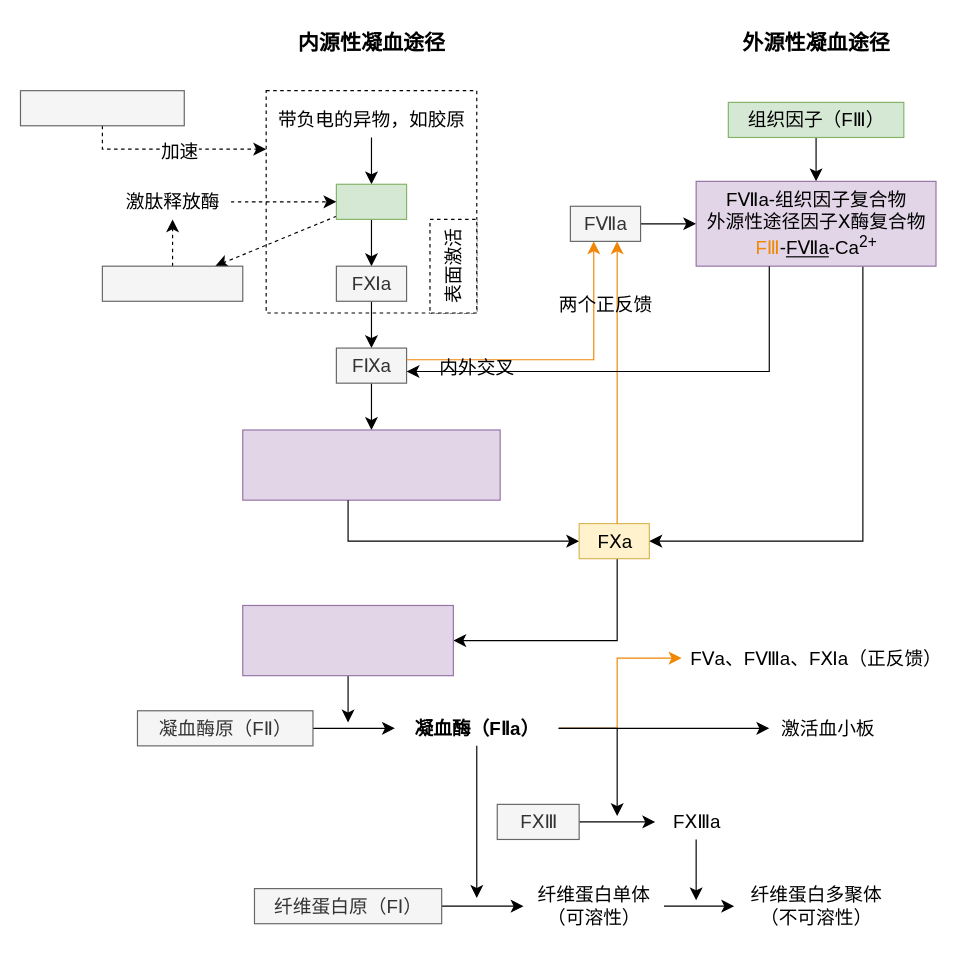
This 971x955 diagram has some shape labels left out. Here are the shapes that lost their labels. From the top down, the centre of each, then its label:
At (101,108): "高分子量激肽原".
At (371,201): "FⅫa".
At (172,283): "前激肽释放酶".
At (371,464): "内源性途径因子Ⅹ酶复合物 FⅧa -FⅨa-Ca 2+ -PL".
At (347,640): "凝血酶原酶复合物 FⅩa- FⅤa -Ca 2+ -PL".
